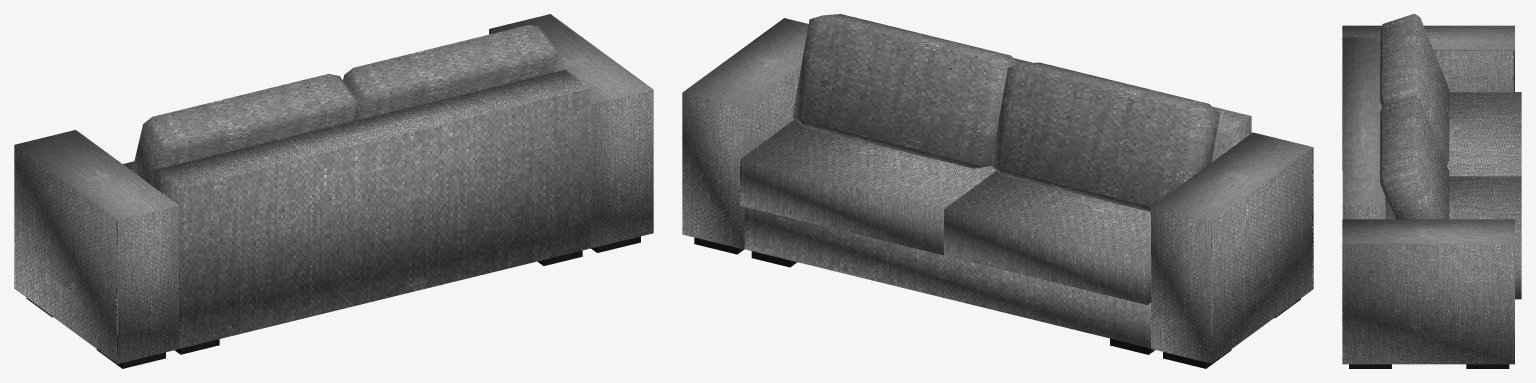
File: couch.glb
The picture shows the model from 3 angles, left to right: view 1: azimuth 30°, elevation 25°; view 2: azimuth 150°, elevation 25°; view 3: azimuth 270°, elevation 25°; orthographic projection. The views are drawn at different scales.
Parts seen in each view (by area): view 1: beveled_cuboid_16, beveled_cuboid_15, beveled_cuboid_14; view 2: beveled_cuboid_16, beveled_cuboid_14, beveled_cuboid_15; view 3: beveled_cuboid_16, beveled_cuboid_14, beveled_cuboid_15.
Part boxes in pixels (box(x1,y1,x2,y2)): beveled_cuboid_16: box(14, 14, 653, 368); beveled_cuboid_15: box(132, 74, 357, 186); beveled_cuboid_14: box(343, 24, 558, 121); beveled_cuboid_16: box(682, 18, 1313, 368); beveled_cuboid_14: box(792, 14, 1019, 168); beveled_cuboid_15: box(991, 62, 1219, 211); beveled_cuboid_16: box(1342, 25, 1521, 368); beveled_cuboid_14: box(1380, 96, 1449, 219); beveled_cuboid_15: box(1380, 14, 1449, 164).
Size of the model in its own units: 3 by 1.11 by 1.04.
2 materials, 2 textured.
